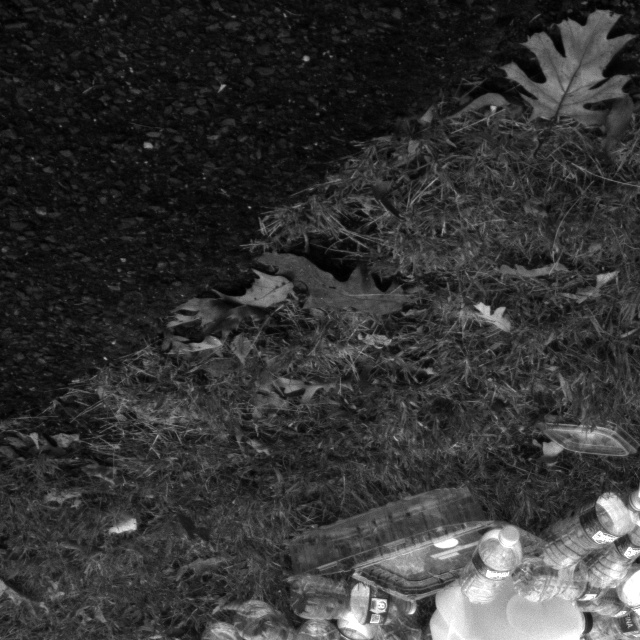bottle: (539, 482, 640, 571), (286, 574, 419, 627), (578, 496, 640, 591), (458, 524, 524, 605), (515, 556, 613, 607)
can: (428, 575, 584, 640)
container: (292, 481, 508, 603), (546, 419, 638, 458)
